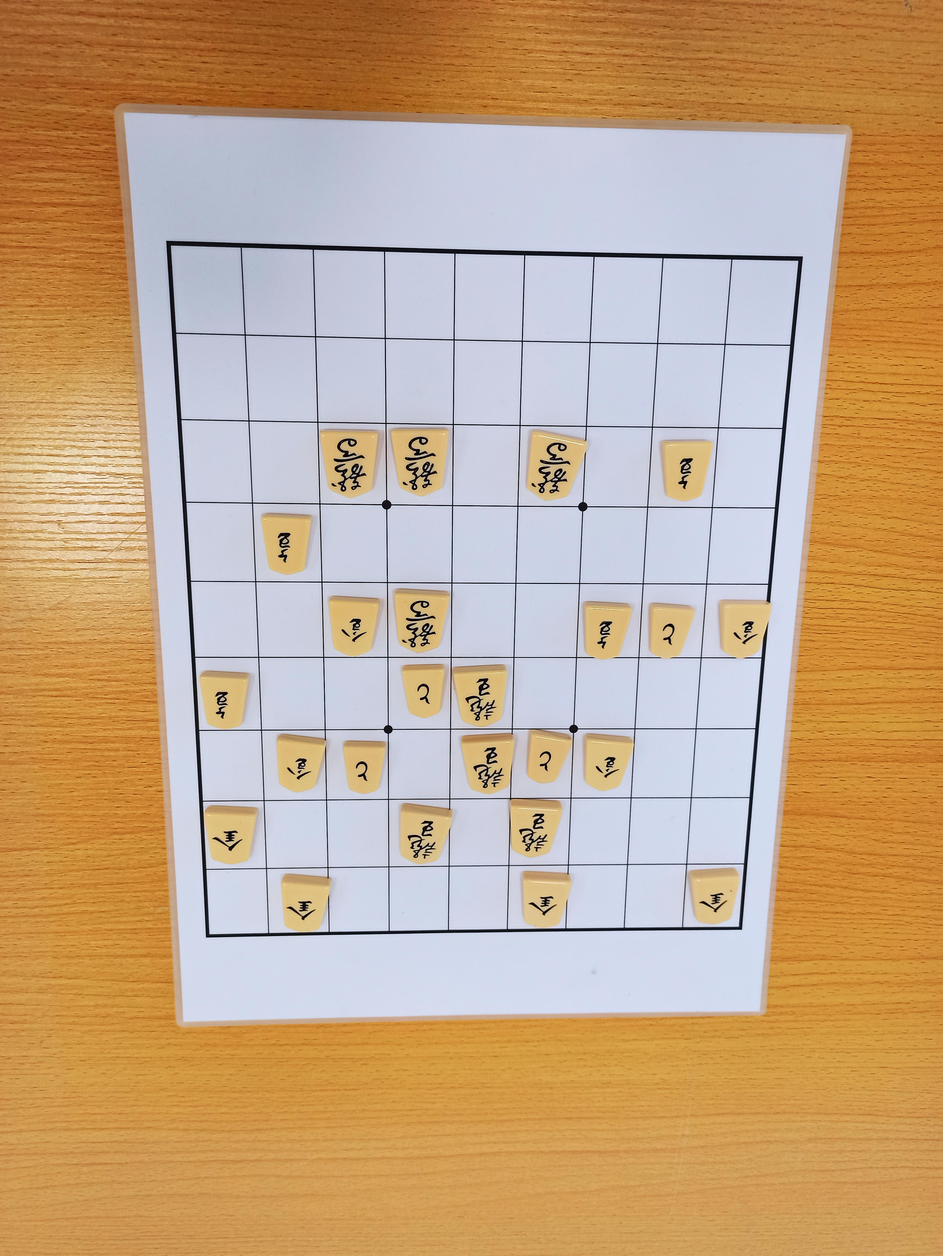board: (168, 242, 802, 936)
